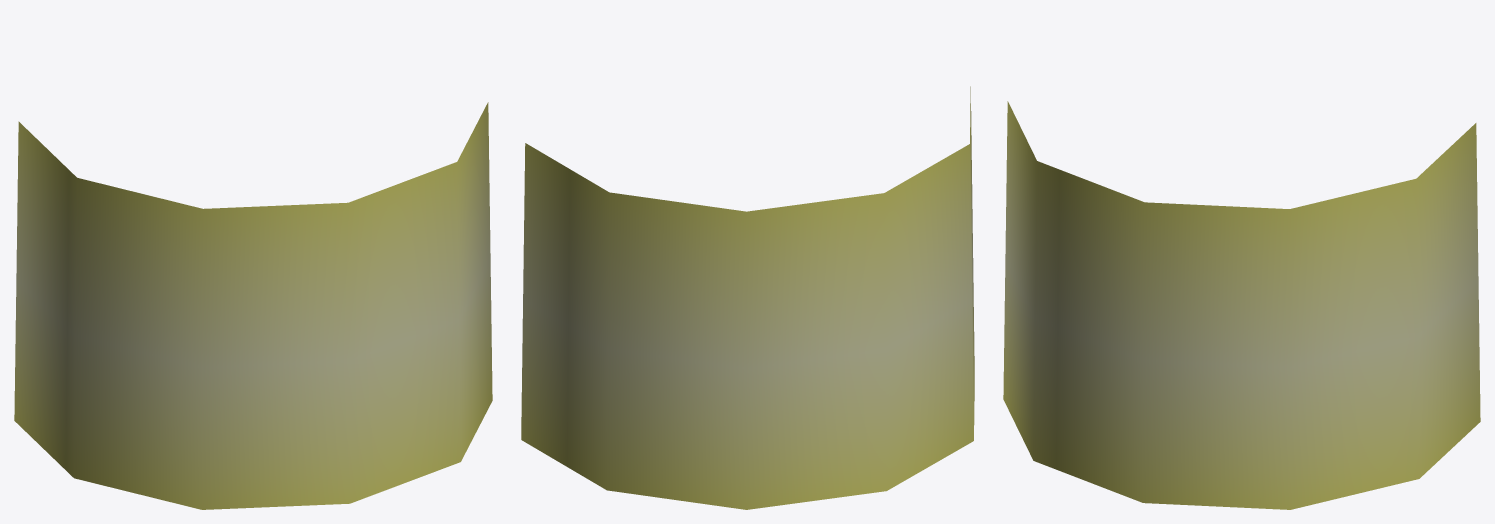
File: LanternLightCylinder.glb
3 views of the same model, side by side, from view 1: azimuth 30°, elevation 25°; view 2: azimuth 150°, elevation 25°; view 3: azimuth 270°, elevation 25° (orthographic).
Visible parts, largest first — view 1: LanternLightCylinder; view 2: LanternLightCylinder; view 3: LanternLightCylinder.
Part boxes in pixels (x1,y1,x2,y2): LanternLightCylinder: (14, 102, 492, 509); LanternLightCylinder: (521, 86, 974, 509); LanternLightCylinder: (1003, 101, 1480, 509).
Bounding box in the file's own units: 0.5747 × 0.4034 × 0.5832.
